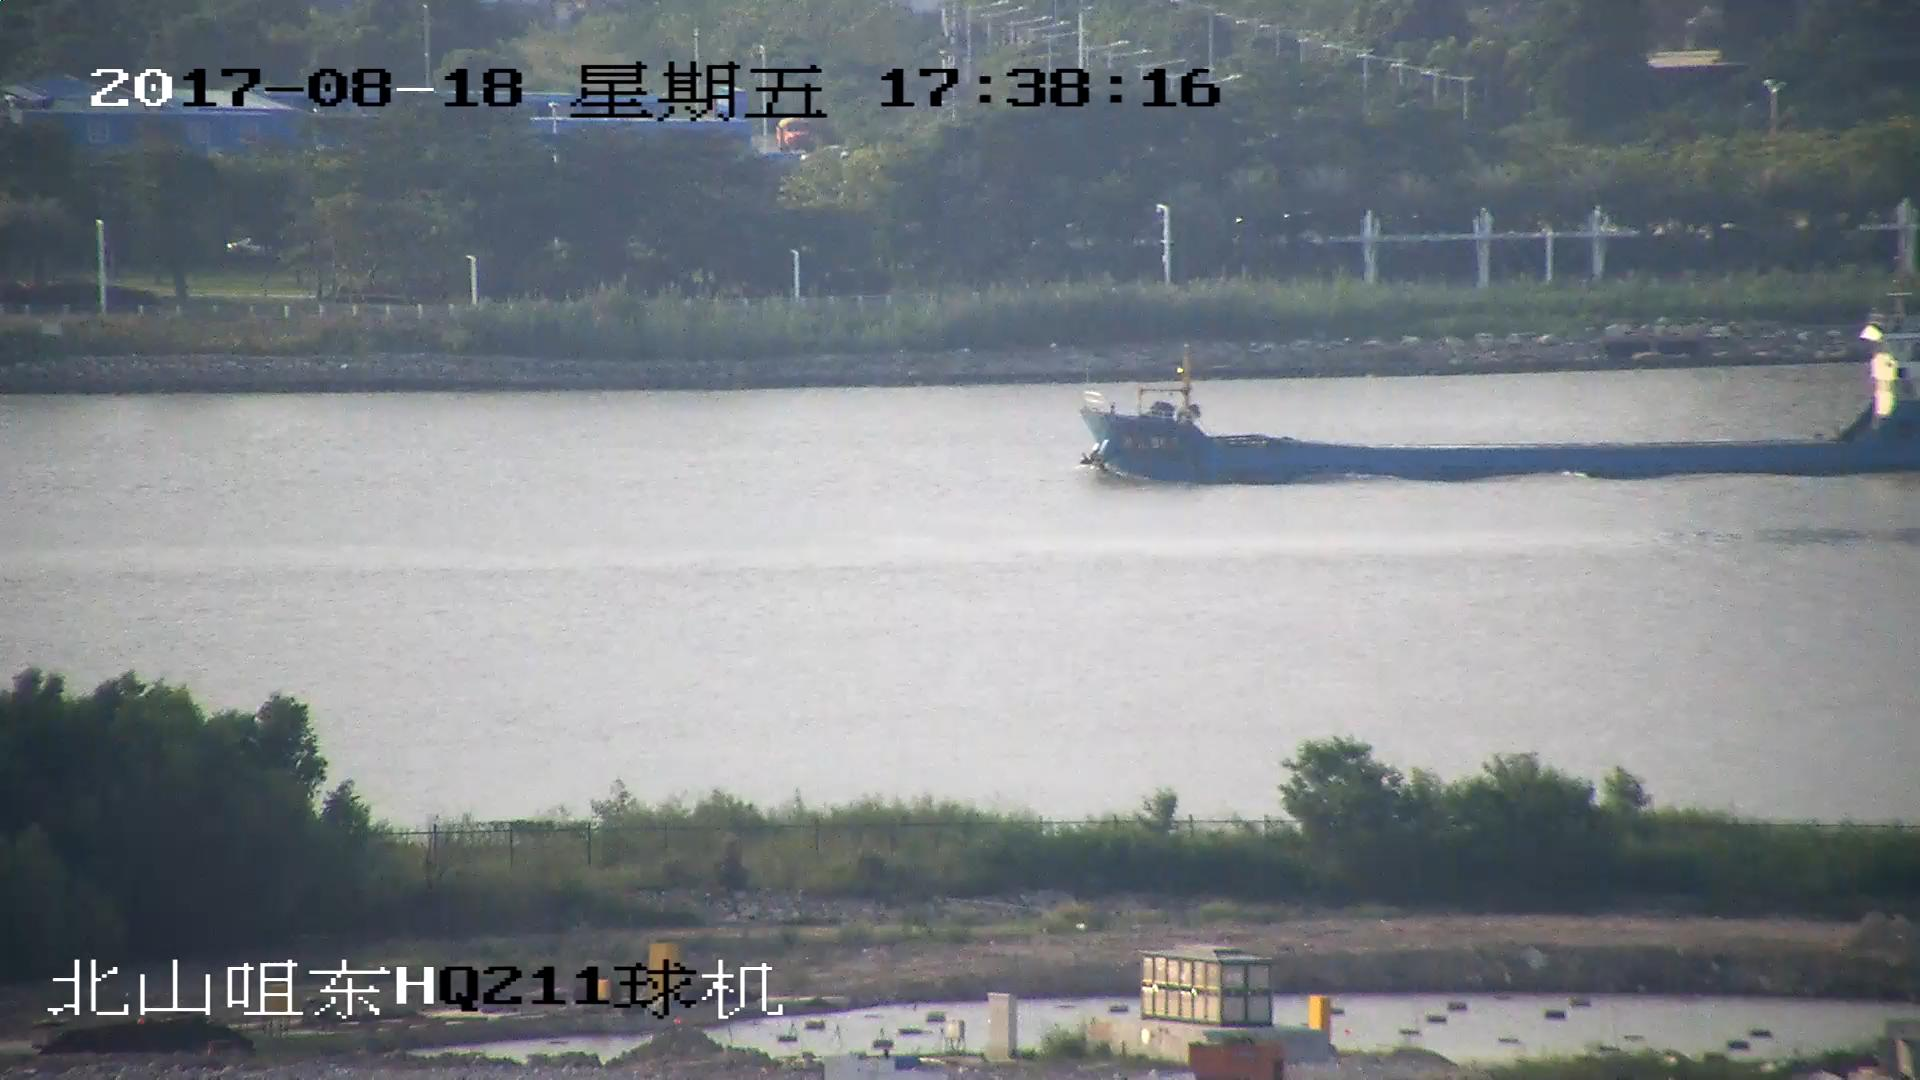general cargo ship: (1073, 297, 1920, 482)
